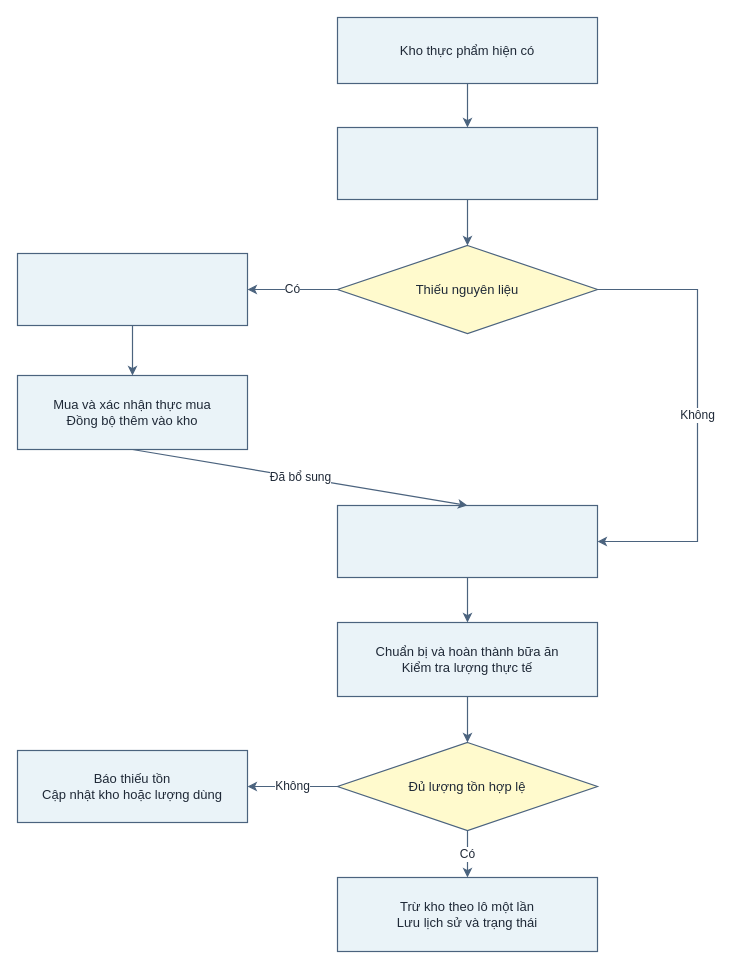
This 733x970 diagram has some shape labels left out. Each missing label, with the centre of its shape:
"Chọn công thức và khẩu phần So khớp với tồn kho" goes at point 467,163.
"Lập kế hoạch ngày và bữa Chưa trừ tồn kho" goes at point 467,541.
"Tạo mục mua lượng còn thiếu" goes at point 132,289.
